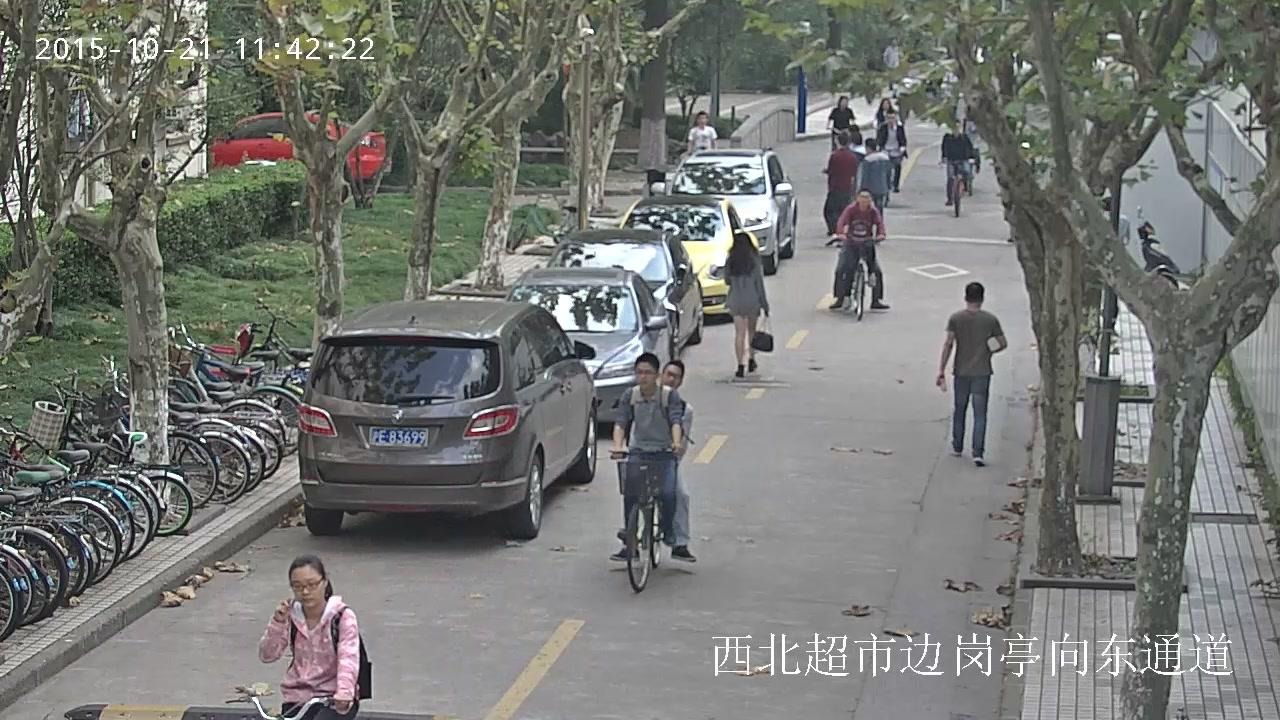person: (224, 555, 373, 720), (609, 351, 695, 594), (257, 554, 372, 720), (608, 351, 684, 558), (623, 358, 694, 565), (934, 281, 1007, 466), (724, 232, 774, 377), (834, 187, 886, 320), (835, 187, 885, 297), (821, 135, 857, 248), (939, 119, 980, 217), (939, 119, 974, 207), (874, 109, 907, 193), (874, 110, 907, 193), (855, 137, 890, 215), (826, 96, 862, 151), (826, 96, 856, 150), (873, 97, 903, 147), (686, 110, 717, 153)
